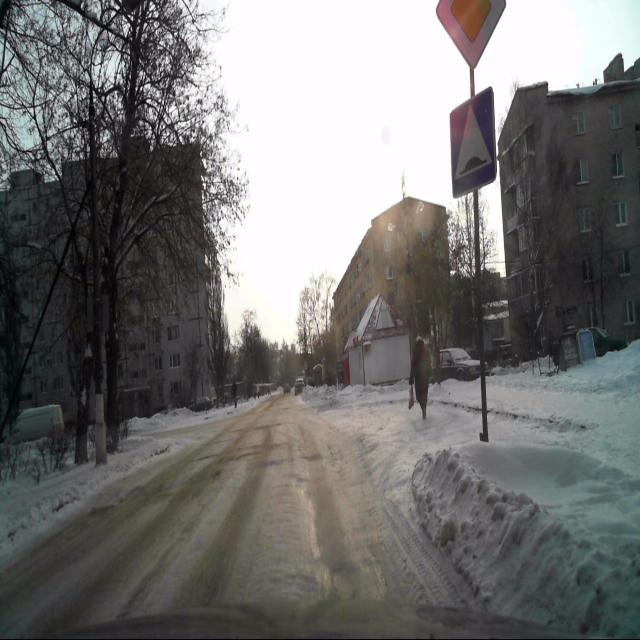object: (436, 1, 506, 73), (472, 188, 490, 444)
road sign: (450, 88, 496, 197)
